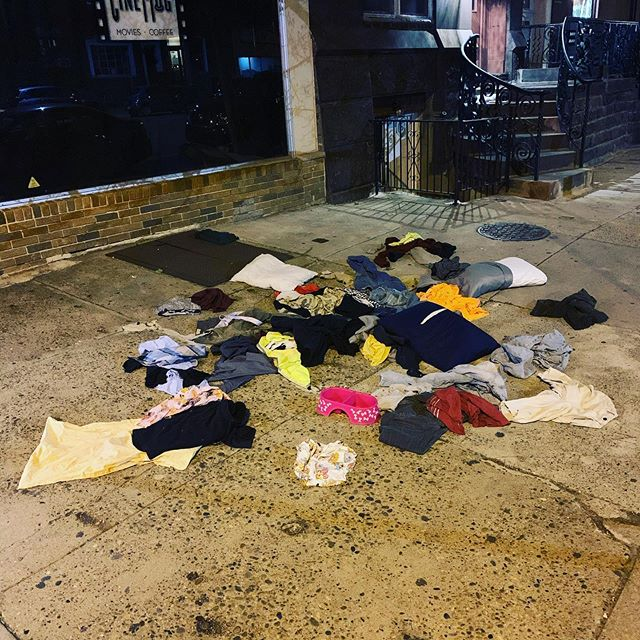trash: (1, 227, 640, 533)
